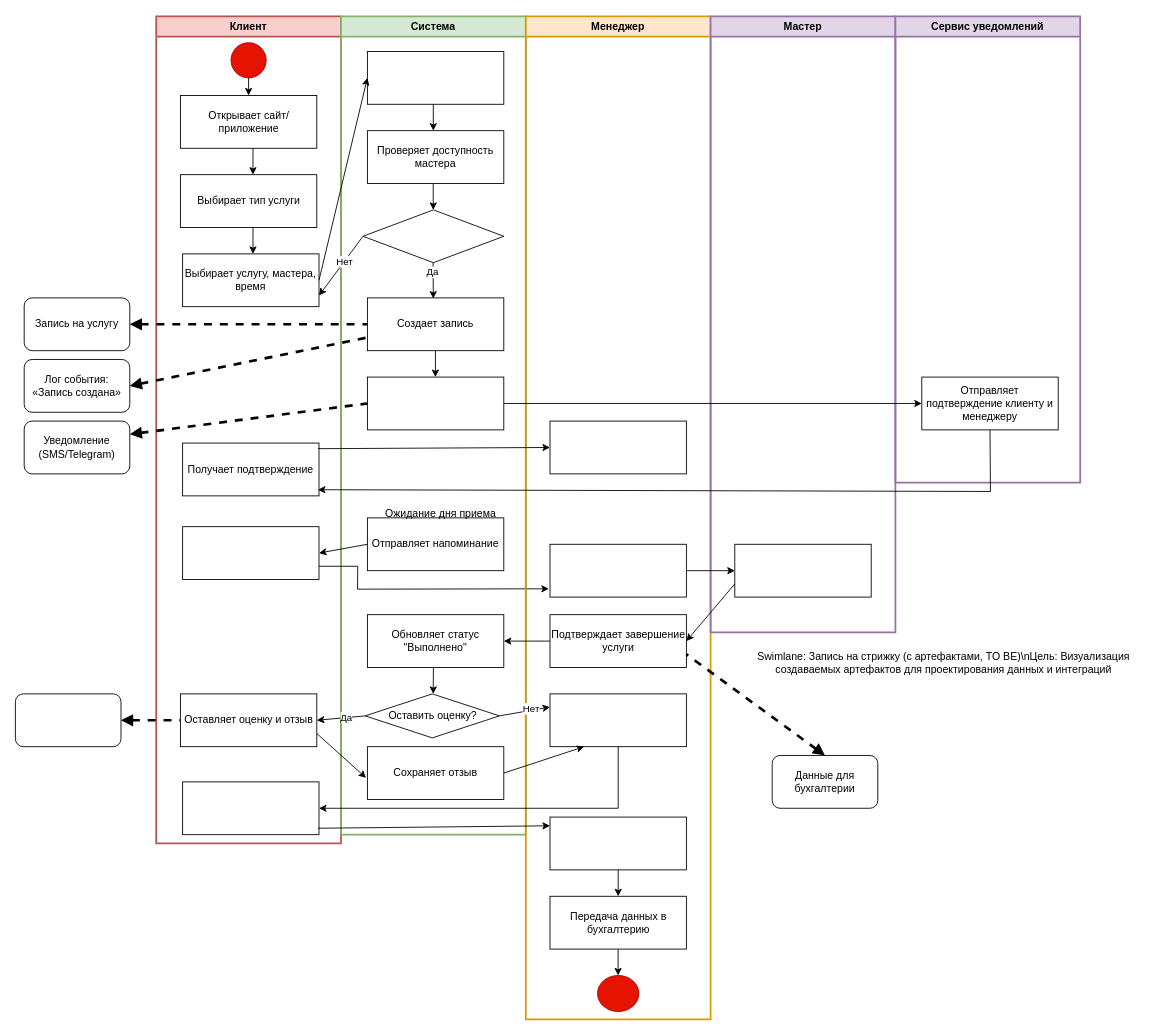
Image size: 1166x1035. Some labels were removed from this diagram. Here are the shapes that lost their labels. From the top down, the box of each, then its label:
(367, 51, 504, 104): Загружает мастеров и слоты
(362, 209, 504, 263): Досутупен?
(367, 376, 504, 430): Генерирует уведомление
(549, 420, 686, 474): Видит новую запись
(182, 526, 319, 579): Приходит на прием
(549, 543, 686, 597): Подтверждает начало услуги
(734, 543, 871, 597): Оказывает услугу
(15, 693, 121, 747): Отзыв
(549, 693, 686, 747): Начисление оплаты
(182, 781, 319, 835): Проведение оплаты
(549, 816, 686, 870): Принимает оплату
